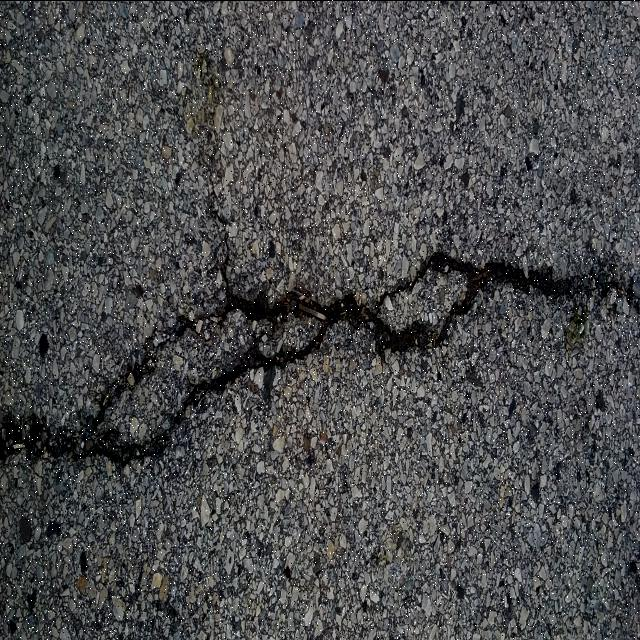Crack: (0, 259, 640, 466), (95, 313, 217, 426), (213, 207, 324, 322), (377, 253, 475, 306)
